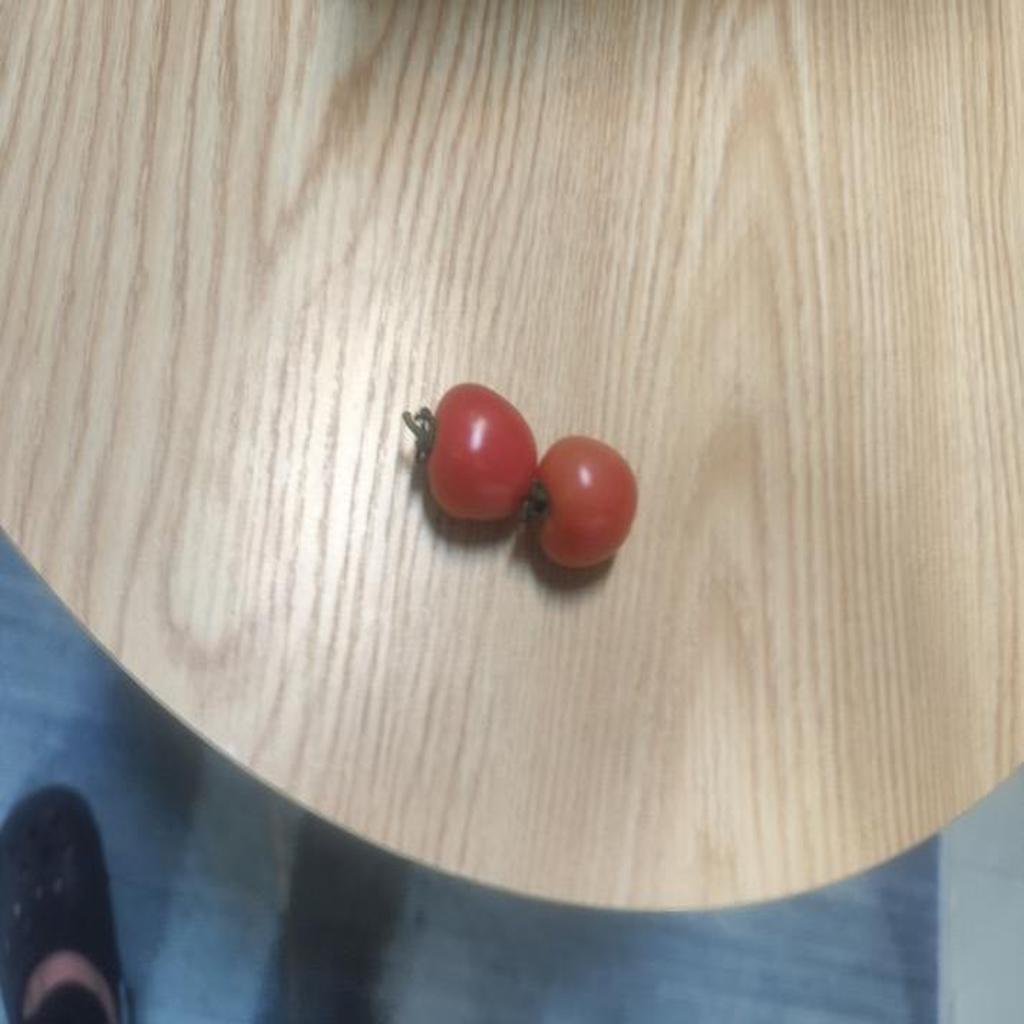tomato: (414, 386, 539, 533), (533, 427, 639, 578)
